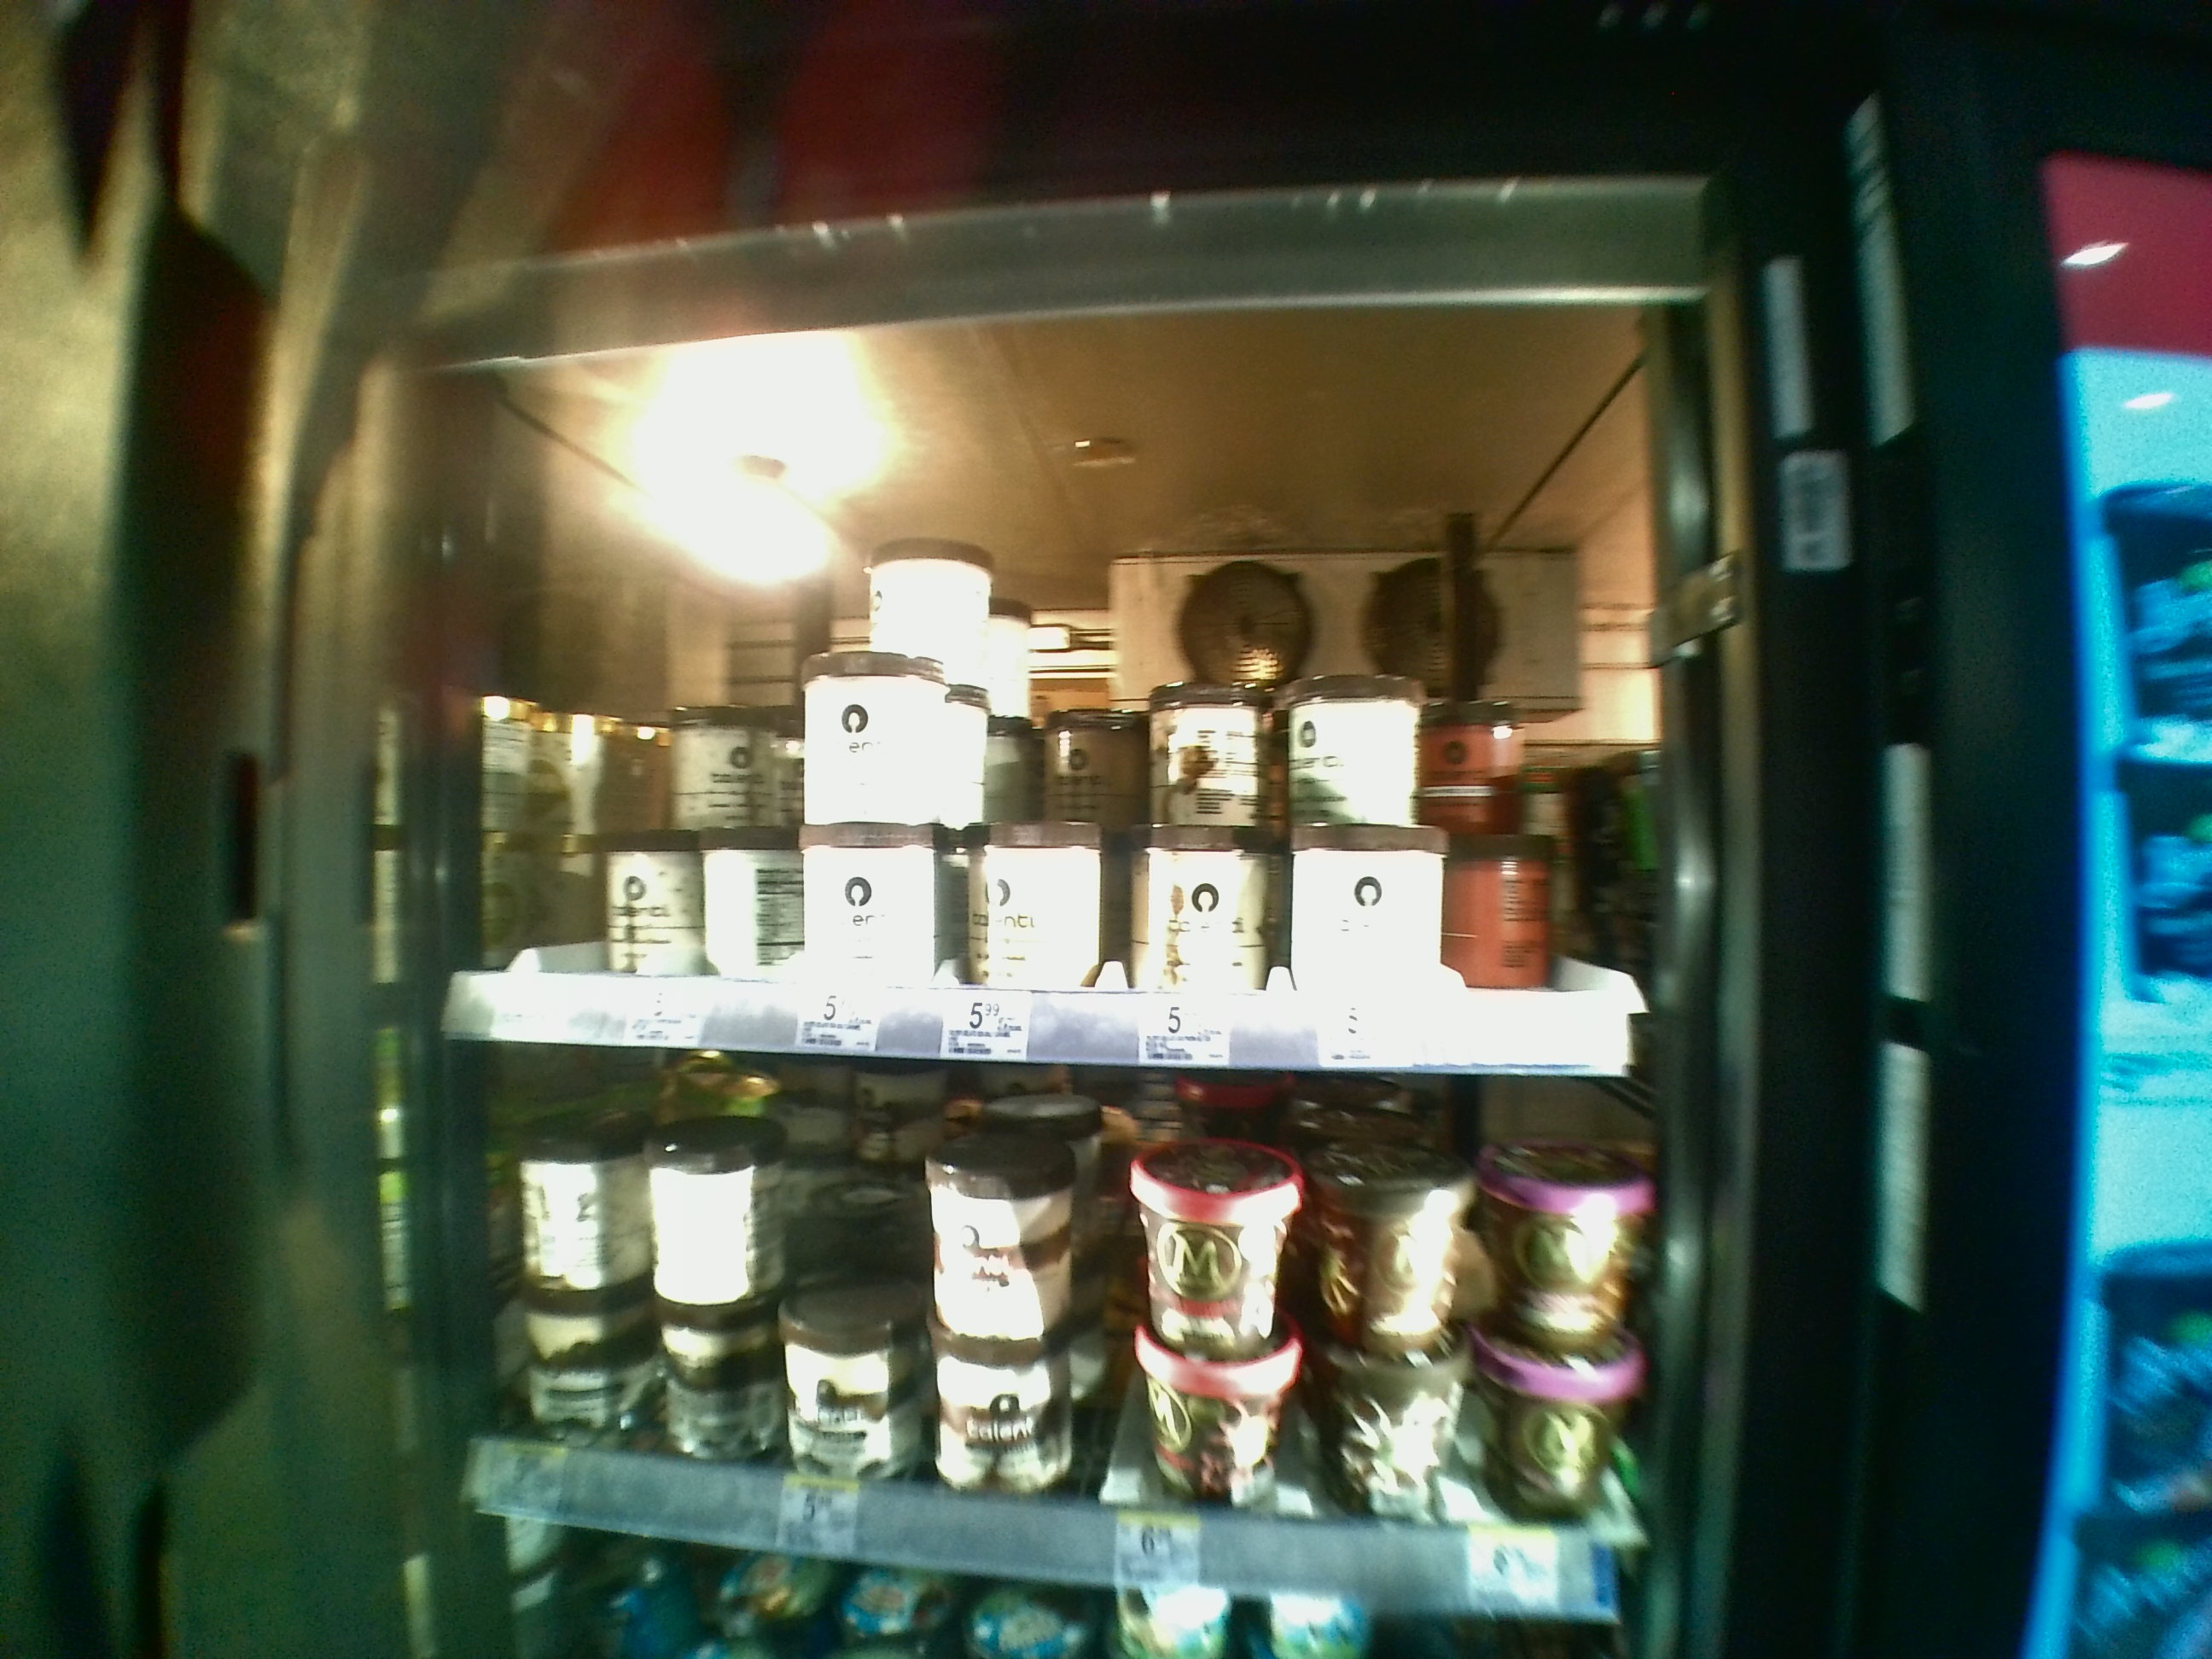shelf: (432, 382, 1651, 1040), (449, 1054, 1662, 1516)
